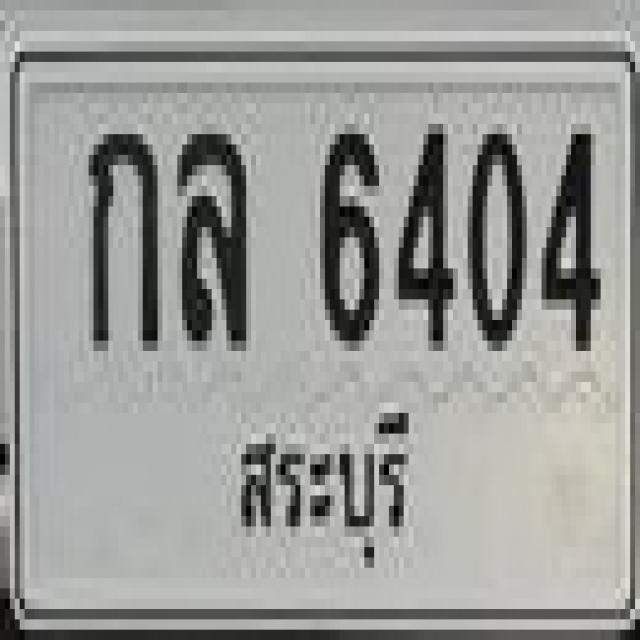license_plate: (5, 31, 640, 640)
